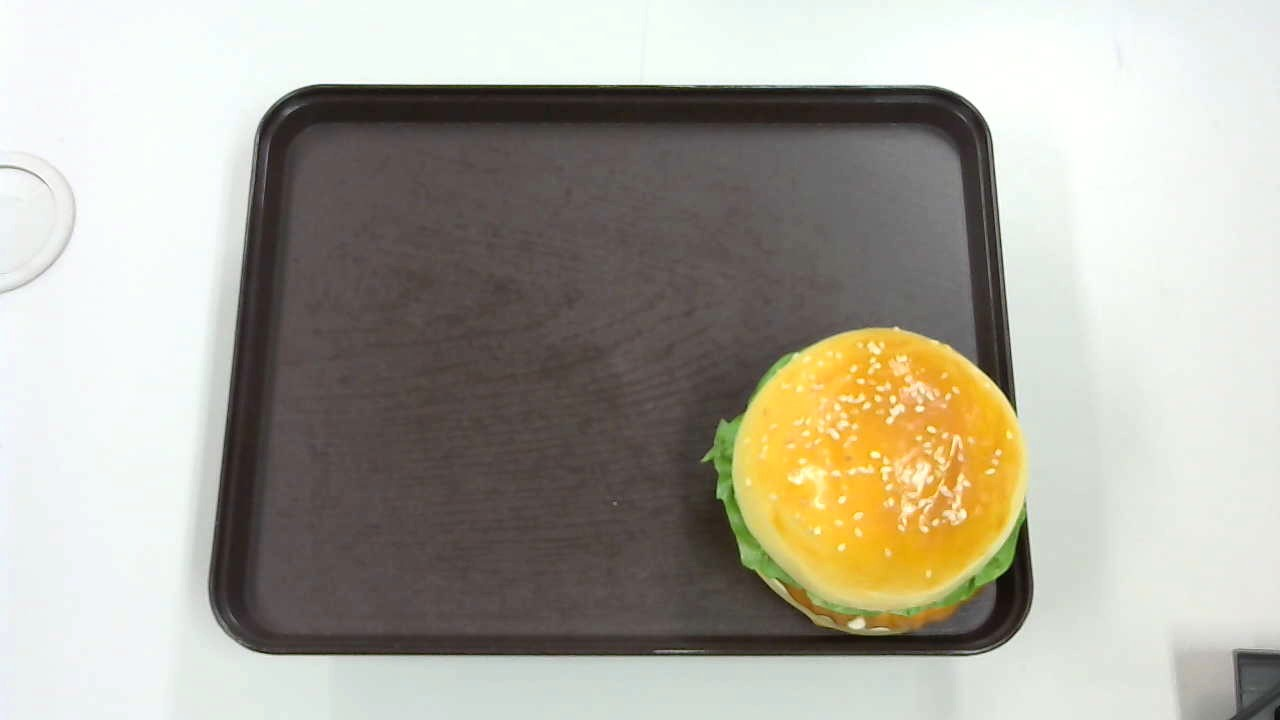hamburger: (700, 327, 1030, 636)
